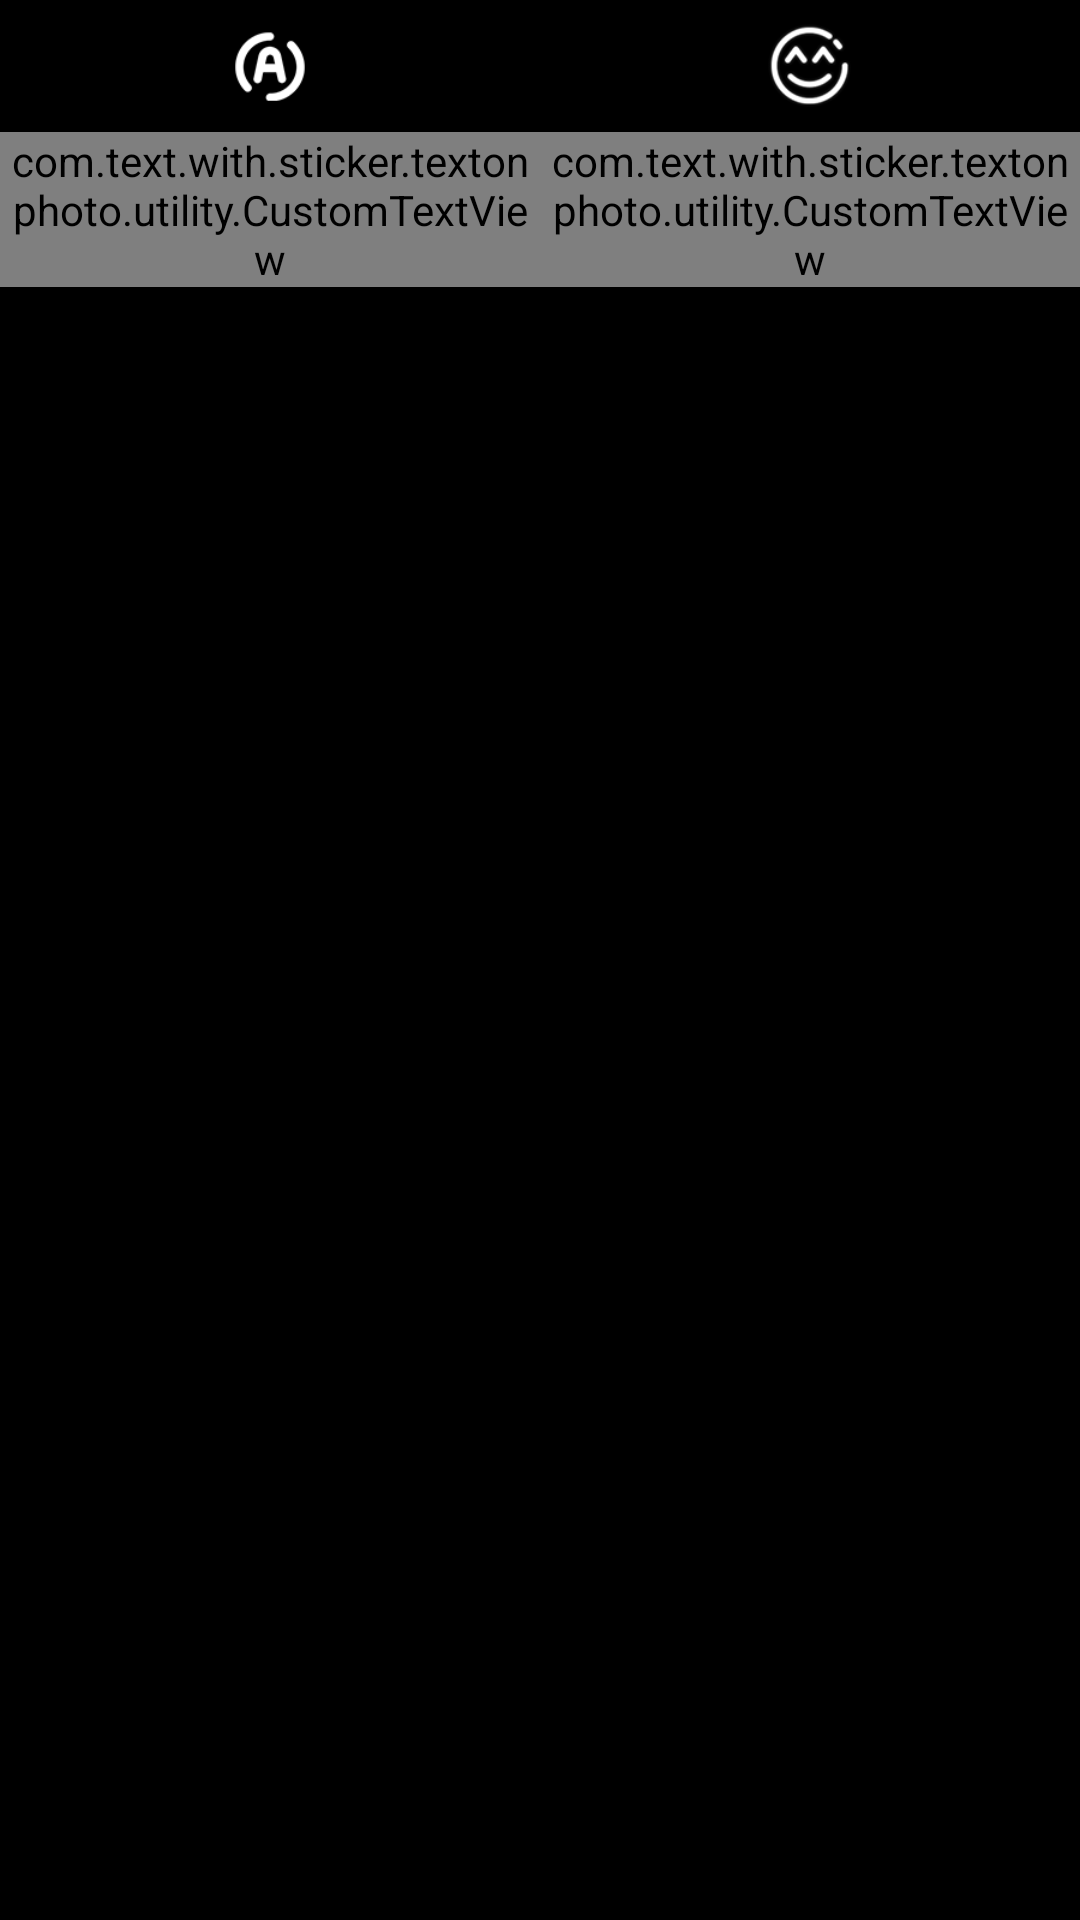

Point at icon controls on the screen. Image size 1080 x 1920, points as (x=x, y=y).
fonts: (x=270, y=66)
stickerr: (x=809, y=65)
